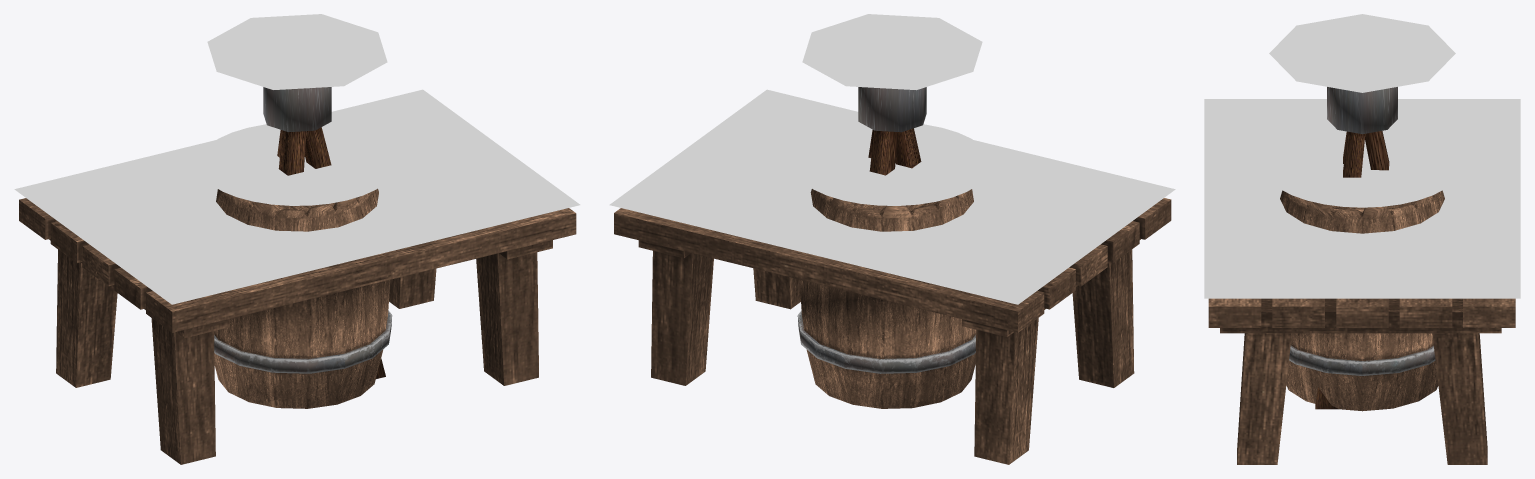
Rendered from decor.glb.
3 views of the same model, side by side, from view 1: azimuth 30°, elevation 25°; view 2: azimuth 150°, elevation 25°; view 3: azimuth 270°, elevation 25° (orthographic).
Parts seen in each view (by area): view 1: table_col, table, barrel, barrel_col, torch_col, torch; view 2: table_col, table, barrel, barrel_col, torch_col, torch; view 3: table_col, table, barrel, barrel_col, torch_col, torch.
Boxes of the visible parts, x1=… form: table_col: x1=14, y1=89, x2=580, y2=304; table: x1=19, y1=198, x2=576, y2=464; barrel: x1=214, y1=188, x2=392, y2=408; barrel_col: x1=198, y1=124, x2=396, y2=205; torch_col: x1=207, y1=14, x2=387, y2=89; torch: x1=263, y1=87, x2=385, y2=378; table_col: x1=609, y1=89, x2=1175, y2=304; table: x1=614, y1=198, x2=1171, y2=464; barrel: x1=797, y1=189, x2=976, y2=408; barrel_col: x1=793, y1=124, x2=991, y2=205; torch_col: x1=802, y1=14, x2=982, y2=90; torch: x1=858, y1=87, x2=926, y2=175; table_col: x1=1204, y1=99, x2=1520, y2=298; table: x1=1208, y1=298, x2=1515, y2=464; barrel: x1=1280, y1=190, x2=1444, y2=411; barrel_col: x1=1263, y1=125, x2=1461, y2=207; torch_col: x1=1269, y1=14, x2=1455, y2=92; torch: x1=1315, y1=87, x2=1397, y2=409.
Bounding box in the file's own units: 2.02 × 1.53 × 1.35.
Materials: 3 (3 with a texture image).
